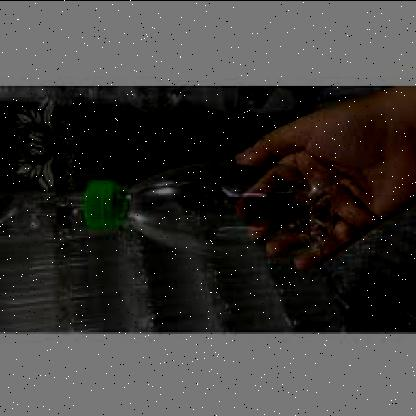Plastic Bottle: (82, 159, 336, 261)
